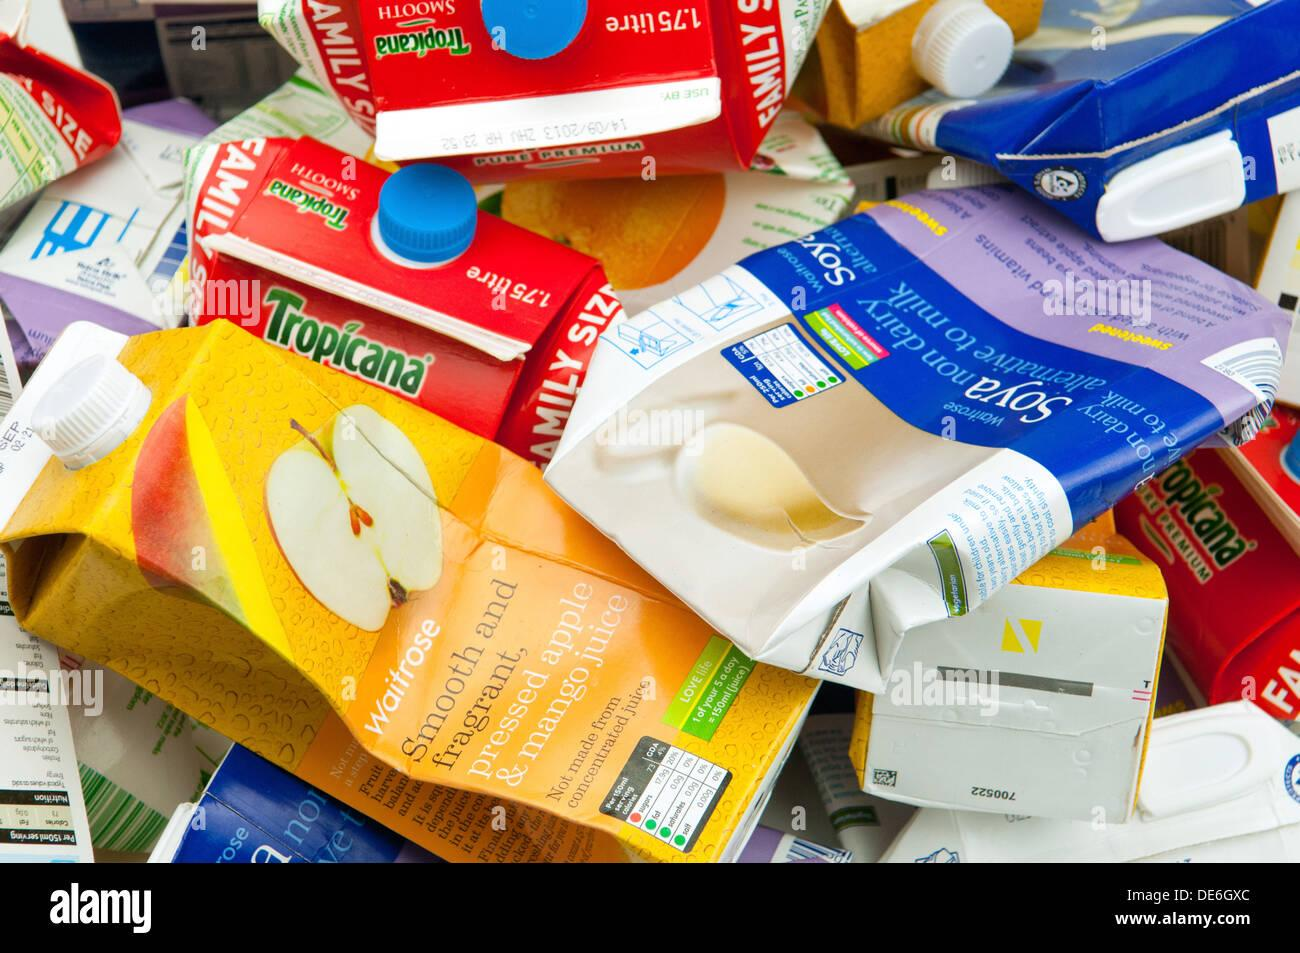cardboard: (0, 322, 813, 860), (548, 185, 1287, 668), (191, 124, 619, 461), (864, 560, 1299, 859), (829, 0, 1299, 239), (260, 0, 825, 179), (0, 37, 212, 370), (1114, 449, 1299, 720), (0, 0, 120, 244)
